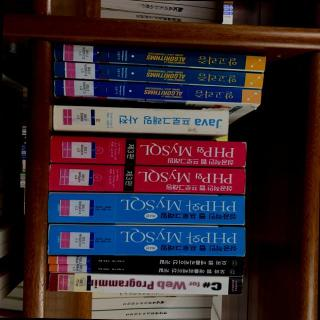book-spine: (47, 224, 246, 258), (49, 163, 245, 196), (53, 43, 265, 73), (49, 136, 245, 168), (48, 193, 244, 225), (53, 61, 263, 90), (52, 105, 228, 136), (54, 79, 261, 105), (48, 272, 242, 296), (49, 264, 243, 277), (47, 256, 244, 267)
